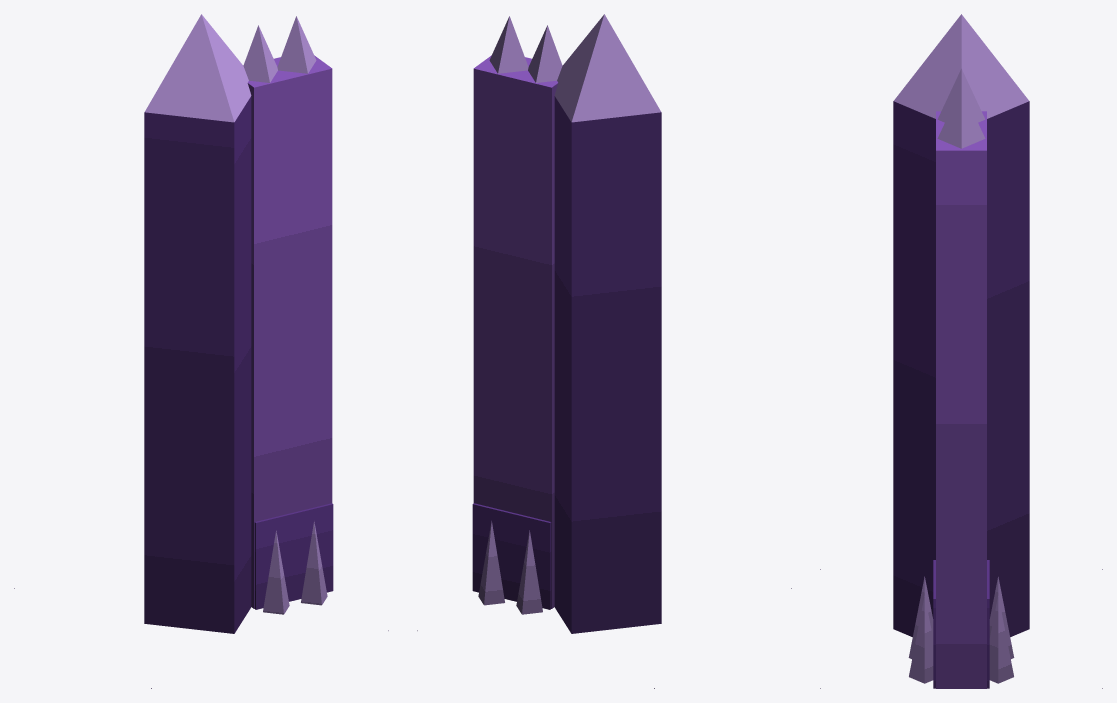
File: wall_crystal_end.glb
3 views of the same model, side by side, from view 1: azimuth 30°, elevation 25°; view 2: azimuth 150°, elevation 25°; view 3: azimuth 270°, elevation 25° (orthographic). The views are drawn at different scales.
Bounding box in the file's own units: 1 × 2.4 × 1.
1 material, 1 textured.
